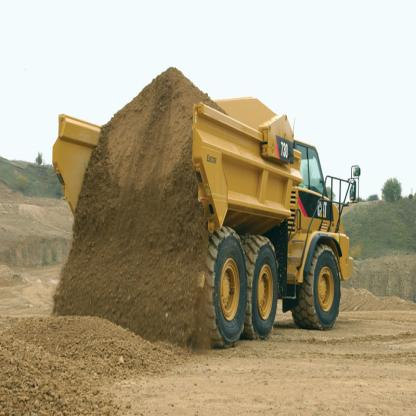dump_truck: (43, 58, 363, 348)
